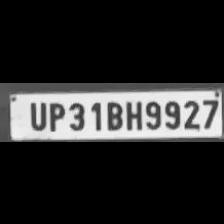1: (86, 98, 104, 130)
2: (182, 97, 200, 129)
3: (66, 98, 86, 130)
7: (200, 96, 218, 128)
9: (162, 97, 180, 129), (143, 97, 161, 128)
B: (104, 98, 122, 130)
H: (124, 98, 142, 130)
P: (46, 99, 64, 131)
U: (24, 98, 46, 130)
